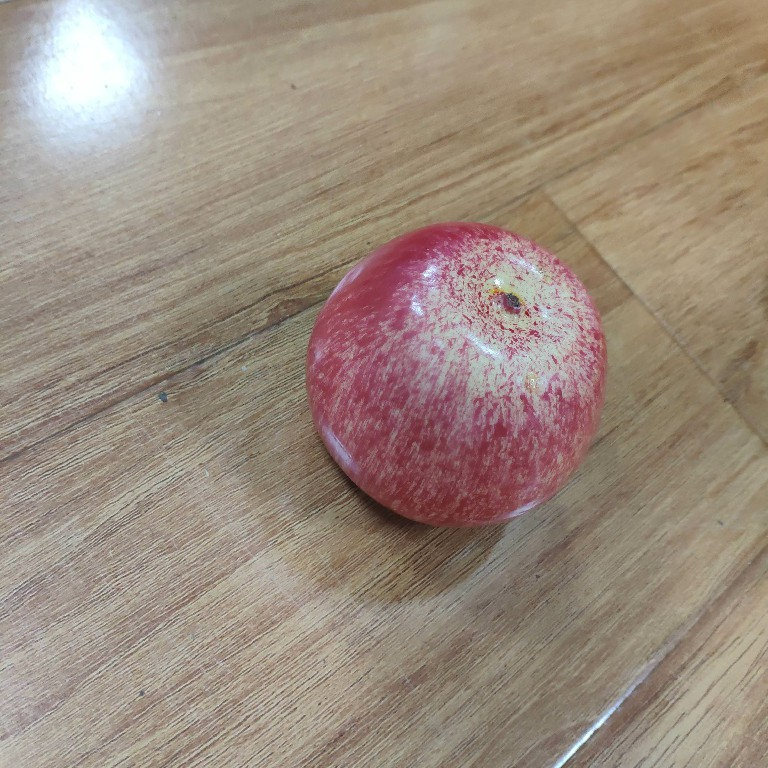fruit_apple: (303, 218, 613, 534)
